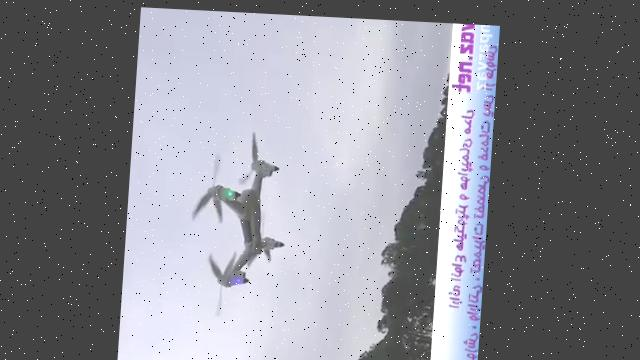drone: (184, 122, 298, 320)
